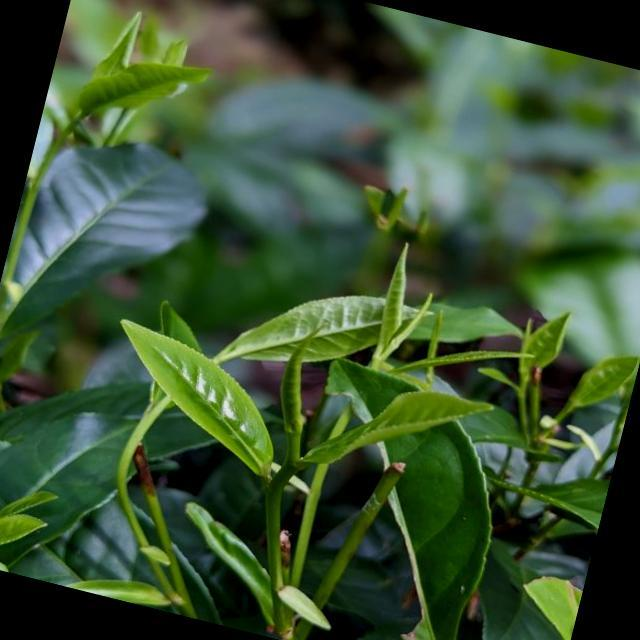Stem: (273, 462, 297, 486)
